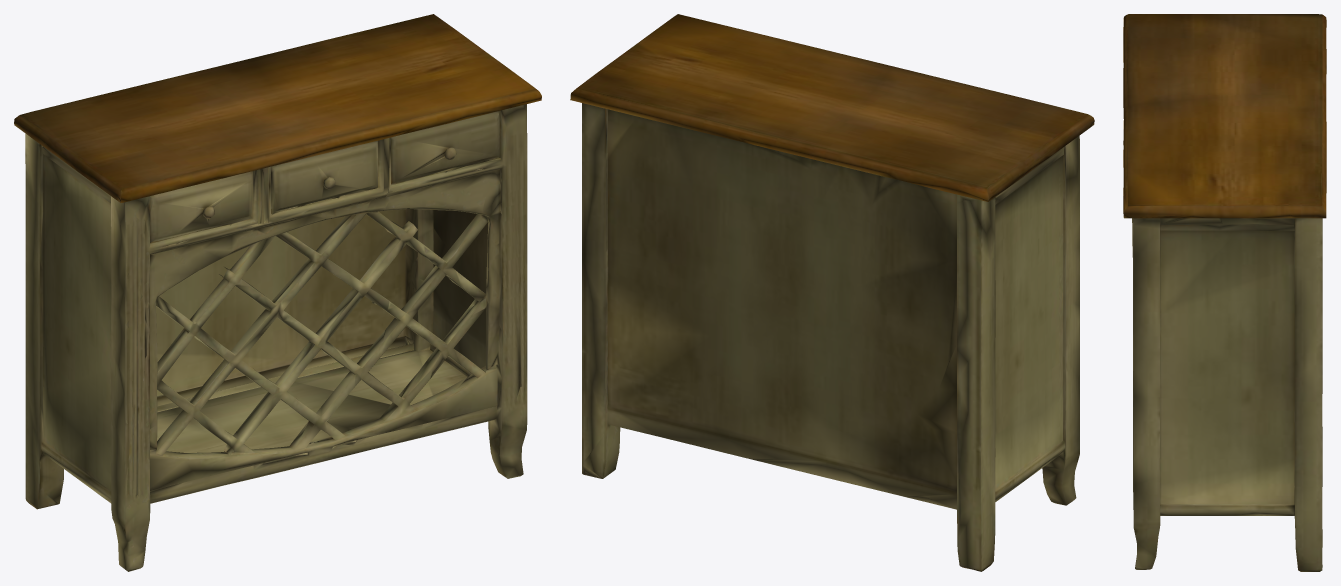
Rendered from cabinet.glb.
3 views of the same model, side by side, from view 1: azimuth 30°, elevation 25°; view 2: azimuth 150°, elevation 25°; view 3: azimuth 270°, elevation 25° (orthographic). The views are drawn at different scales.
Visible parts, largest first — view 1: world; view 2: world; view 3: world.
Boxes of the visible parts, x1,y1,x2,y2 form: world: (14,14,541,571); world: (570,14,1094,571); world: (1123,14,1326,571).
Size of the model in its own units: 1 by 0.8831 by 0.4408.
Materials: 1 (1 with a texture image).
